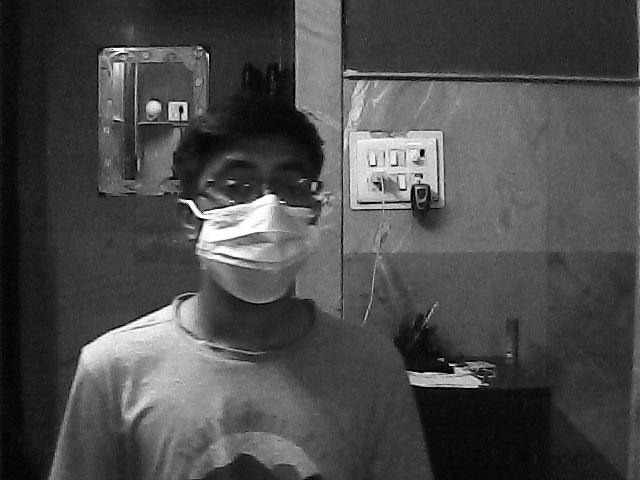mask: (188, 156, 321, 302)
